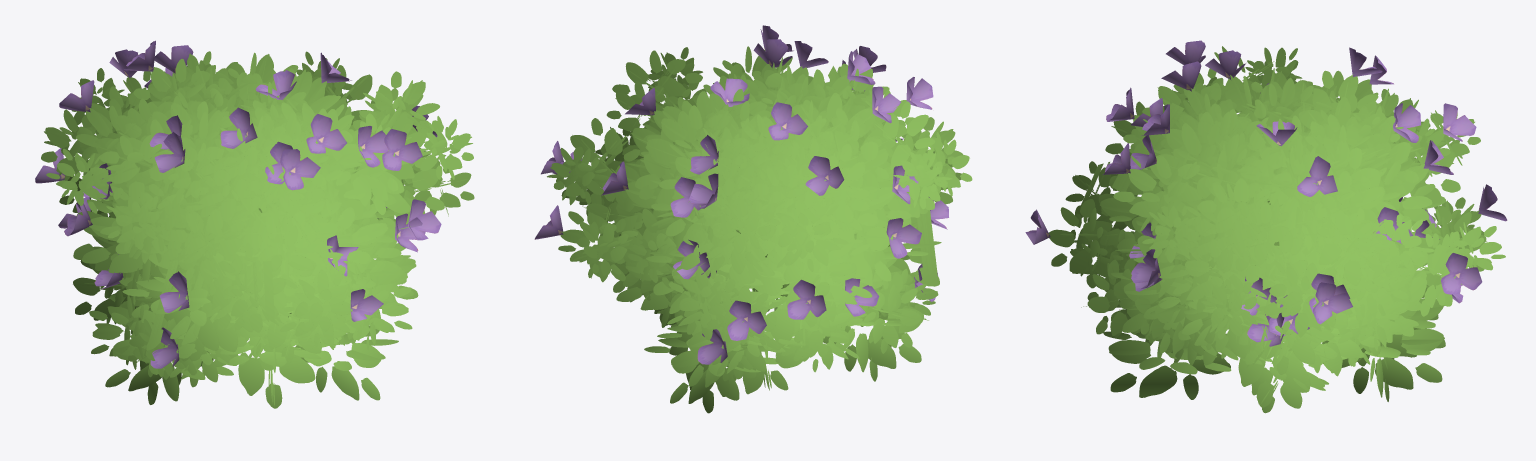
File: nkbushflowers.glb
3 views of the same model, side by side, from view 1: azimuth 30°, elevation 25°; view 2: azimuth 150°, elevation 25°; view 3: azimuth 270°, elevation 25° (orthographic). The views are drawn at different scales.
Visible parts, largest first — view 1: Bush_Common_Flowers; view 2: Bush_Common_Flowers; view 3: Bush_Common_Flowers.
Part boxes in pixels (box(x1,y1,x2,y2)): Bush_Common_Flowers: box(35, 40, 474, 408); Bush_Common_Flowers: box(534, 25, 972, 413); Bush_Common_Flowers: box(1025, 40, 1507, 413).
Size of the model in its own units: 1.91 by 1.58 by 1.97.
2 materials, 2 textured.
